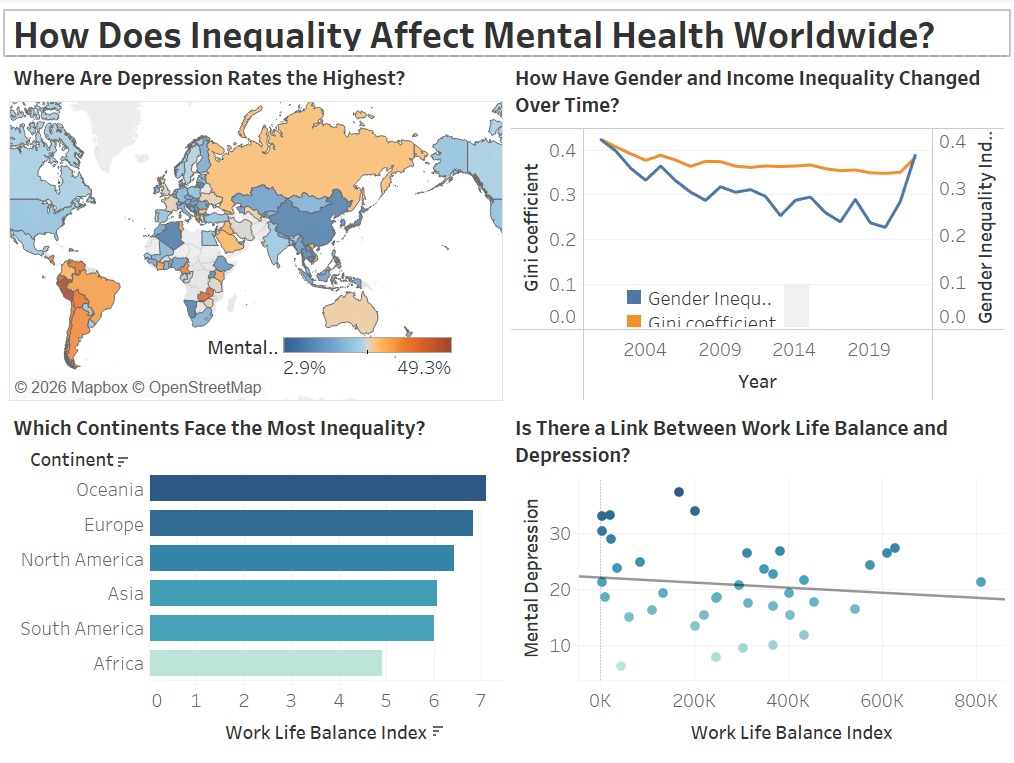

This screenshot's page, from the dashboard's own definition file:
{"tool":"tableau","page":{"name":"How Does Inequality Affect Mental Health Worldwide?","canvas":[1020,760],"ordinal":1},"visuals":[{"type":"title","box":[8,8,1004,44]},{"type":"worksheet","title":"Where Are Depression Rates the Highest?","mark":"Automatic","box":[8,52,502,350]},{"type":"worksheet","title":"How Have Gender and Income Inequality Changed Over Time?","mark":"Automatic","rows":["Gini coefficient","Gender Inequality Index"],"cols":["Year"],"box":[510,52,502,350]},{"type":"legend","title":"How Have Gender and Income Inequality Changed Over Time?","param":"[federated.1mubinx03b20kh12gckys11gsrth].[:Measure Names]","box":[625,282,189,42]},{"type":"legend","title":"Where Are Depression Rates the Highest?","param":"[federated.1mubinx03b20kh12gckys11gsrth].[sum:Share - Question: mh7a - Have been","box":[210,330,249,45]},{"type":"worksheet","title":"Which Continents Face the Most Inequality?","mark":"Automatic","cols":["Inequality Index"],"box":[8,402,502,350]},{"type":"worksheet","title":"Is There a Link Between Work Life Balance and Depression?","mark":"Automatic","cols":["Inequality Index"],"box":[510,402,502,350]}]}

Visuals, with their boxes in screenshot pixels (x1, y1, x2, y2), scaled from the page's 1020x760 canvas onto the 1014x763 screenshot:
title: box(8, 8, 1006, 52)
"Where Are Depression Rates the Highest?" worksheet: box(8, 52, 507, 404)
"How Have Gender and Income Inequality Changed Over Time?" worksheet: box(507, 52, 1006, 404)
"How Have Gender and Income Inequality Changed Over Time?" legend: box(621, 283, 809, 325)
"Where Are Depression Rates the Highest?" legend: box(209, 331, 456, 376)
"Which Continents Face the Most Inequality?" worksheet: box(8, 404, 507, 755)
"Is There a Link Between Work Life Balance and Depression?" worksheet: box(507, 404, 1006, 755)
